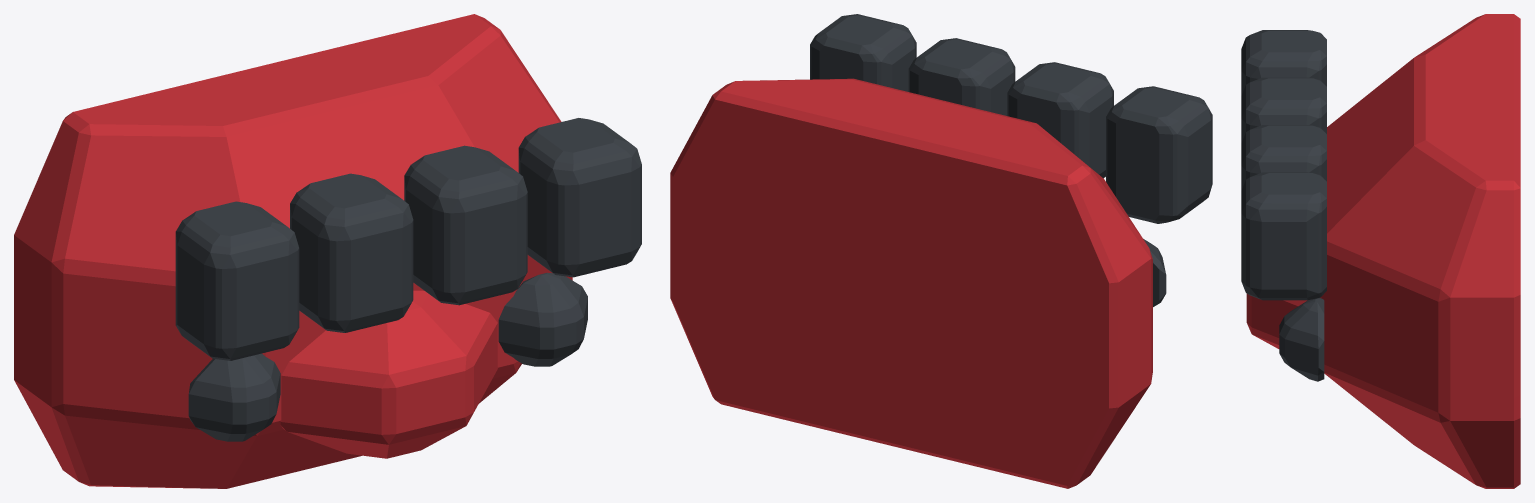
The model's file is HandFront_Set09_Mantis.fbx.
The picture shows the model from 3 angles, left to right: view 1: azimuth 30°, elevation 25°; view 2: azimuth 150°, elevation 25°; view 3: azimuth 270°, elevation 25°; orthographic projection. The views are drawn at different scales.
Visible parts, largest first — view 1: HandFront_Set09_Mantis; view 2: HandFront_Set09_Mantis; view 3: HandFront_Set09_Mantis.
Boxes of the visible parts, x1=… form: HandFront_Set09_Mantis: x1=14, y1=14, x2=641, y2=488; HandFront_Set09_Mantis: x1=670, y1=14, x2=1212, y2=488; HandFront_Set09_Mantis: x1=1241, y1=14, x2=1520, y2=488.
Size of the model in its own units: 0.3 by 0.2 by 0.1644.
